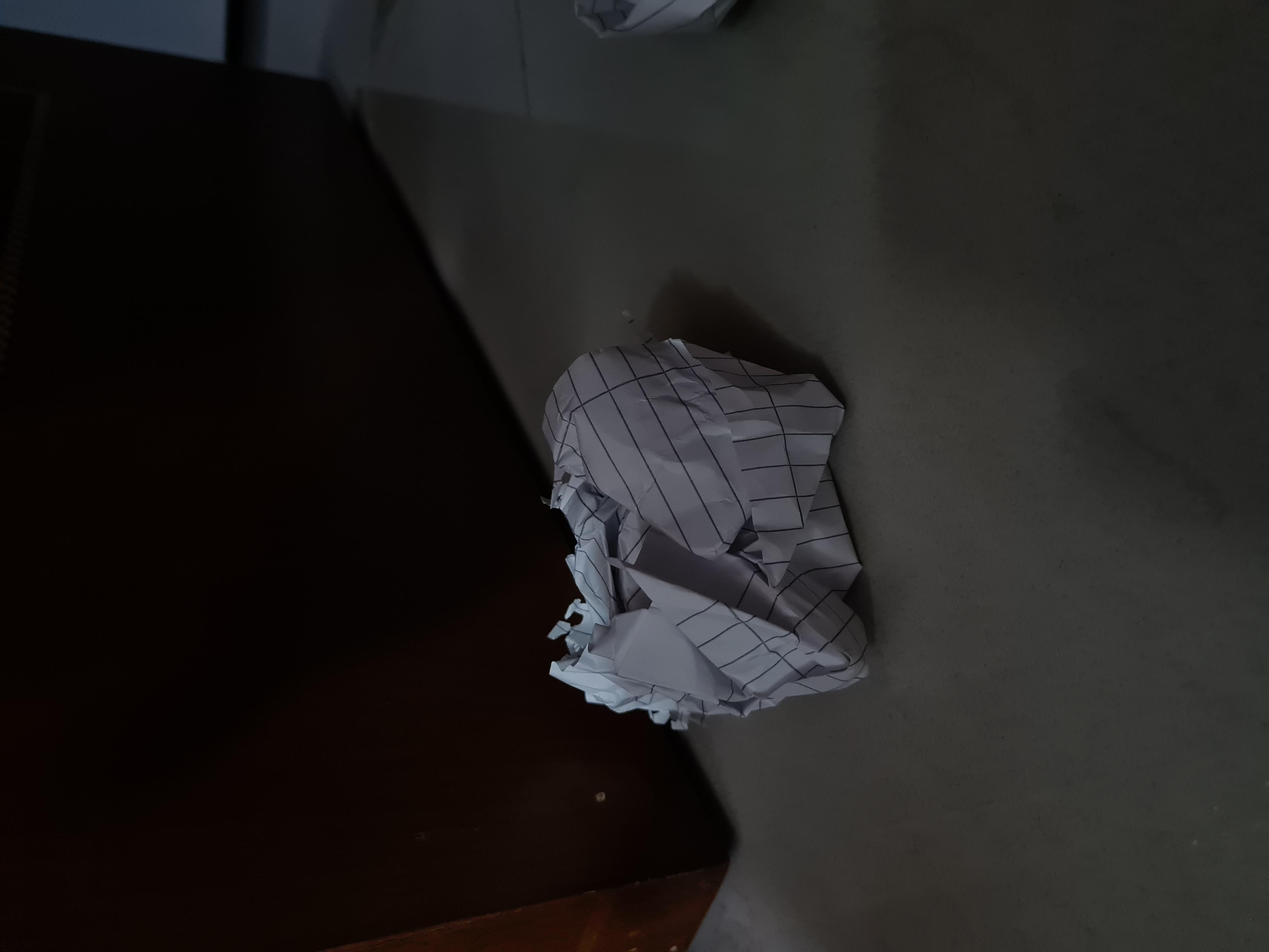paper: (290, 407, 833, 652)
